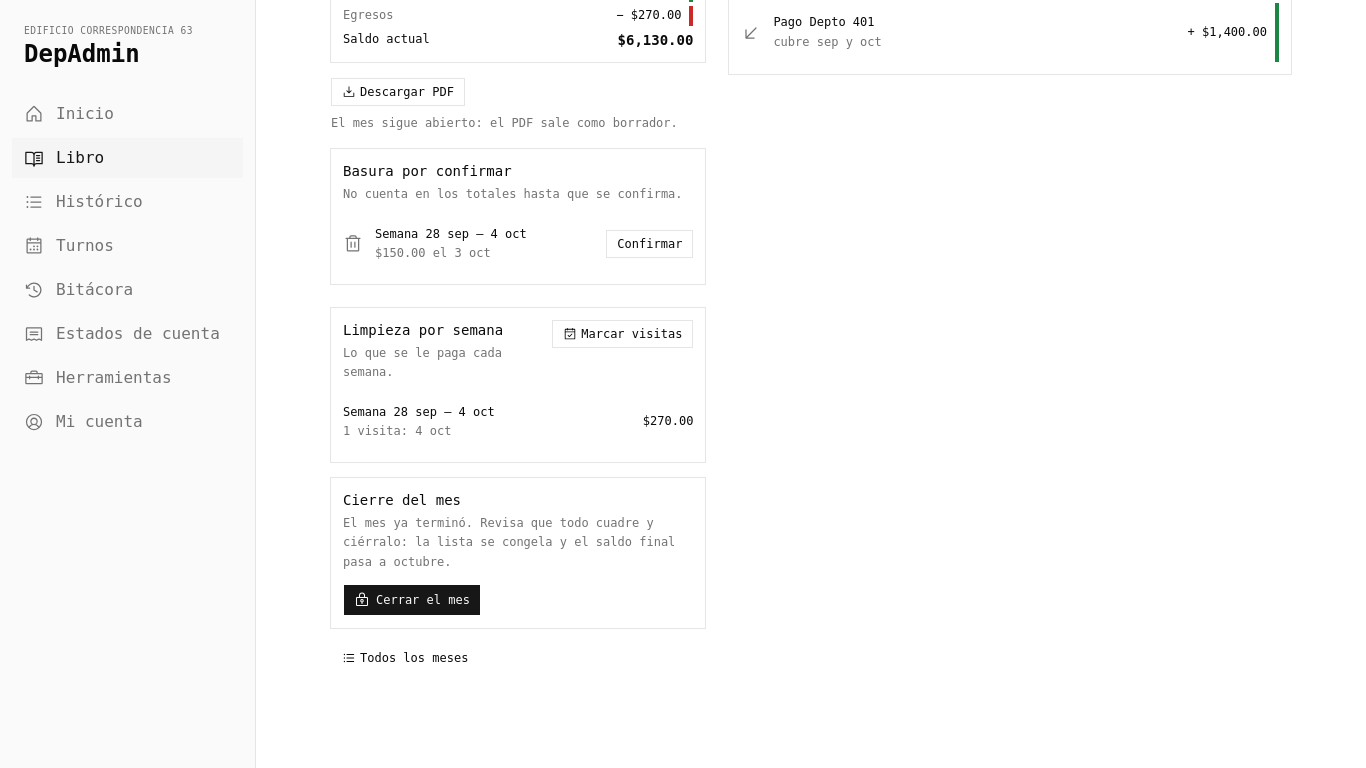
Test case: closing and reopening a month › shows why closing failed and keeps the dialog open
(page scrolled)
Click the button "Cerrar el mes".
click(412, 600)  # box 343,584 -> 481,616
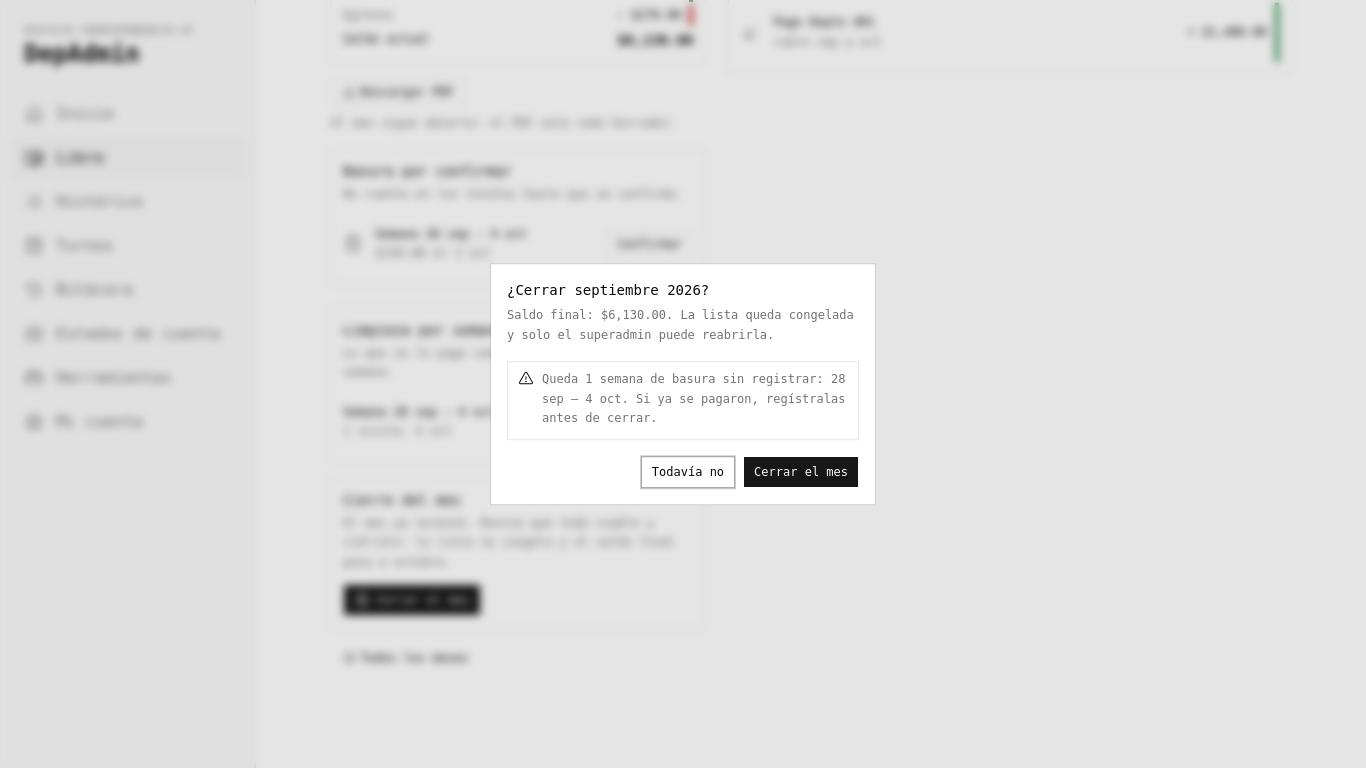
Click the button "Cerrar el mes".
click(801, 472)  # box 743,456 -> 859,488
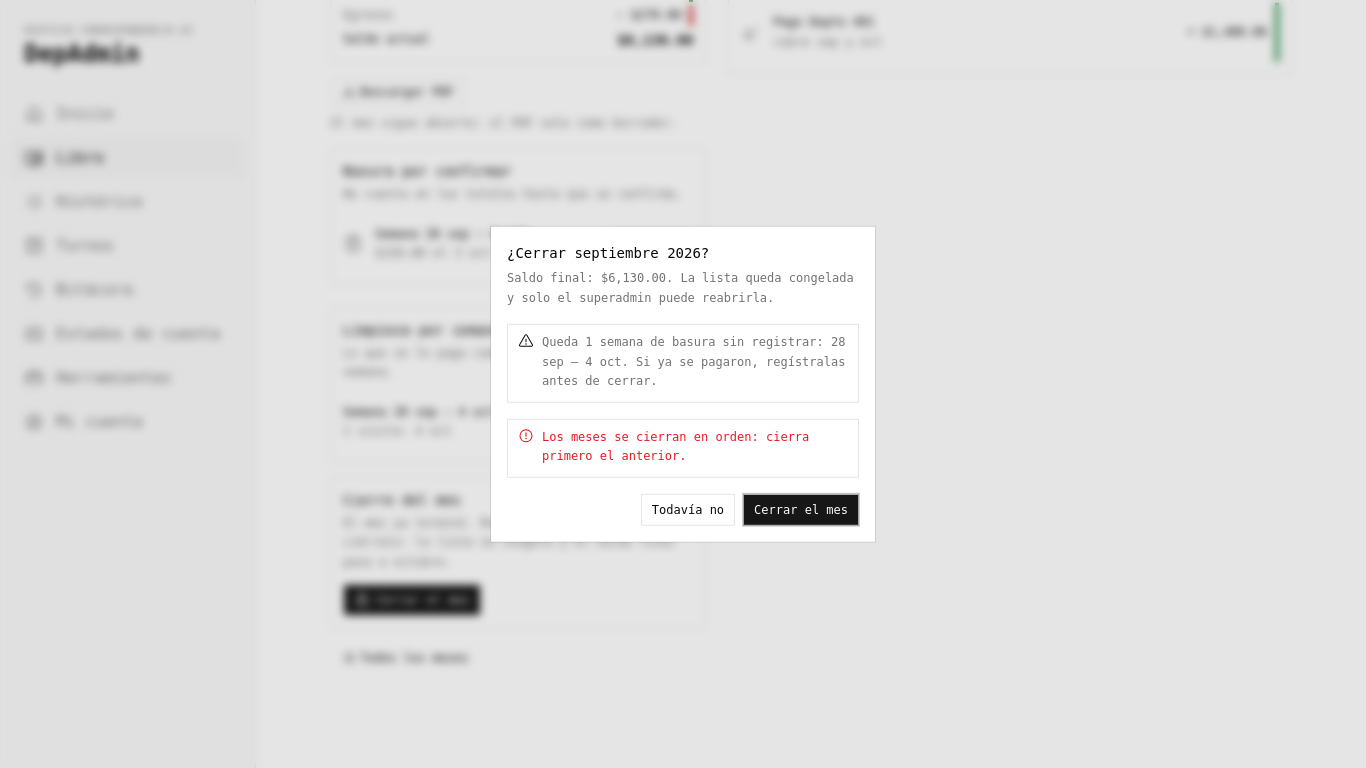
Expected: the text "Los meses se cierran en orden: cierra primero el anterior." is shown, 542,427 -> 848,466
